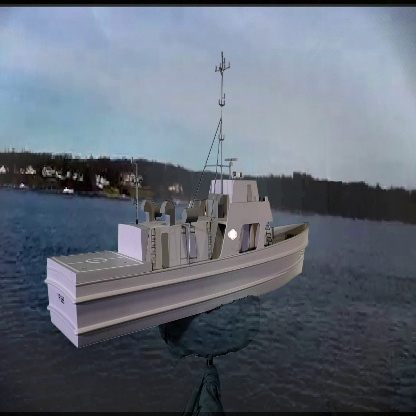YP689: (45, 54, 310, 349)
